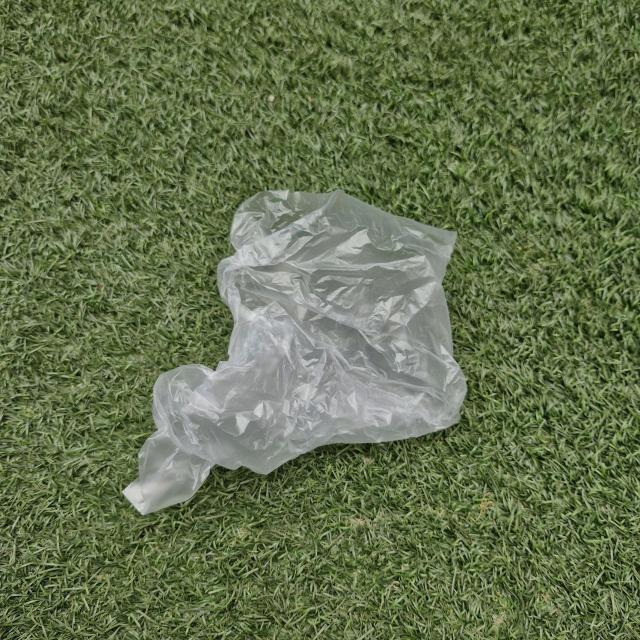plastic: (128, 177, 476, 523)
